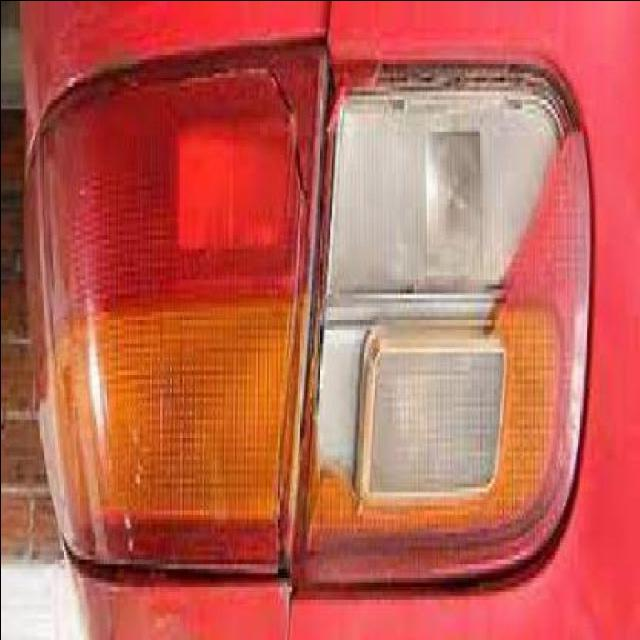Taillight-Damage: (2, 3, 625, 640)
